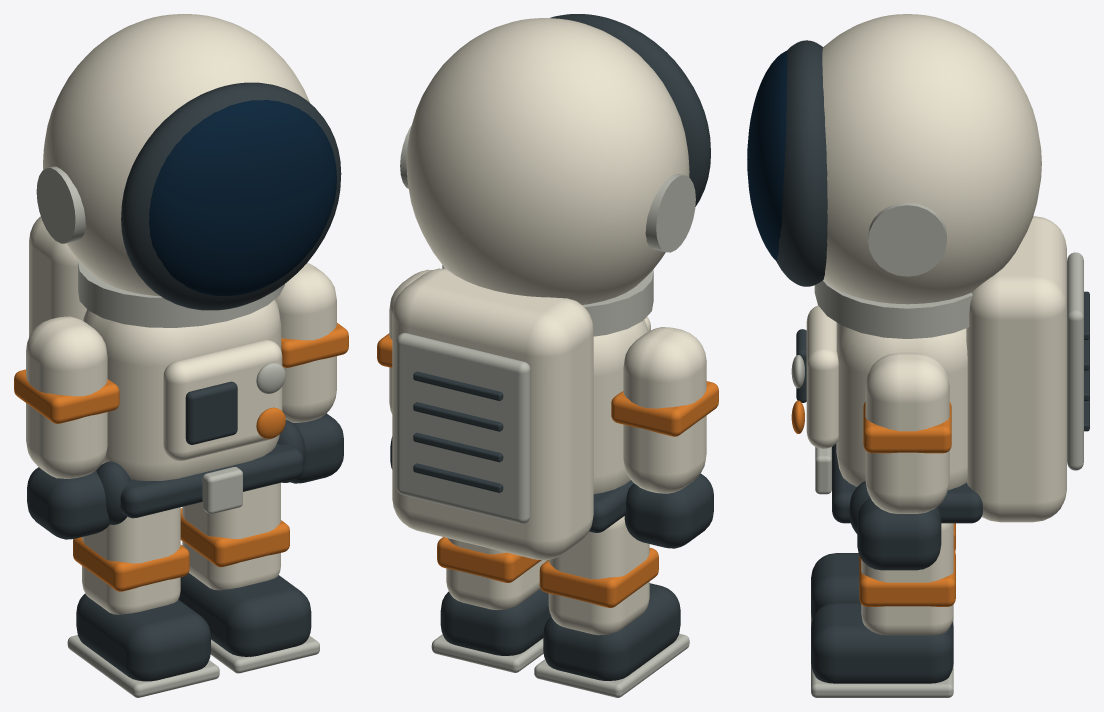
The model's file is astronaut.glb.
The picture shows the model from 3 angles, left to right: view 1: azimuth 30°, elevation 25°; view 2: azimuth 150°, elevation 25°; view 3: azimuth 270°, elevation 25°; orthographic projection. The views are drawn at different scales.
Parts seen in each view (by area): view 1: Lunaria_Astronaut; view 2: Lunaria_Astronaut; view 3: Lunaria_Astronaut.
Part boxes in pixels (x1,y1,x2,y2): Lunaria_Astronaut: [14, 14, 348, 697]; Lunaria_Astronaut: [377, 14, 718, 697]; Lunaria_Astronaut: [747, 14, 1089, 697].
Size of the model in its own units: 41.5 by 82.4 by 40.8.
